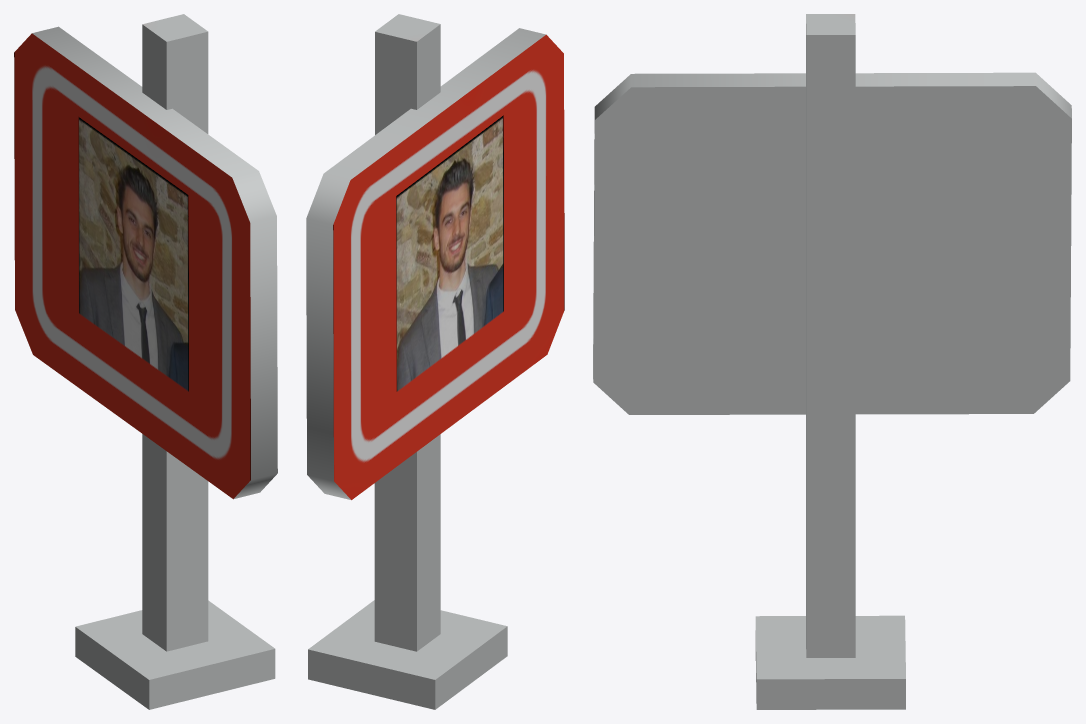
Rendered from cartello.obj.
The picture shows the model from 3 angles, left to right: view 1: azimuth 30°, elevation 25°; view 2: azimuth 150°, elevation 25°; view 3: azimuth 270°, elevation 25°; orthographic projection. The views are drawn at different scales.
Parts seen in each view (by area): view 1: Cartello; view 2: Cartello; view 3: Cartello.
Boxes of the visible parts, <box> form: Cartello: <box>14,14,277,709</box>; Cartello: <box>306,14,564,709</box>; Cartello: <box>593,14,1071,709</box>.
Bounding box in the file's own units: 1.18 × 5.65 × 3.75.
